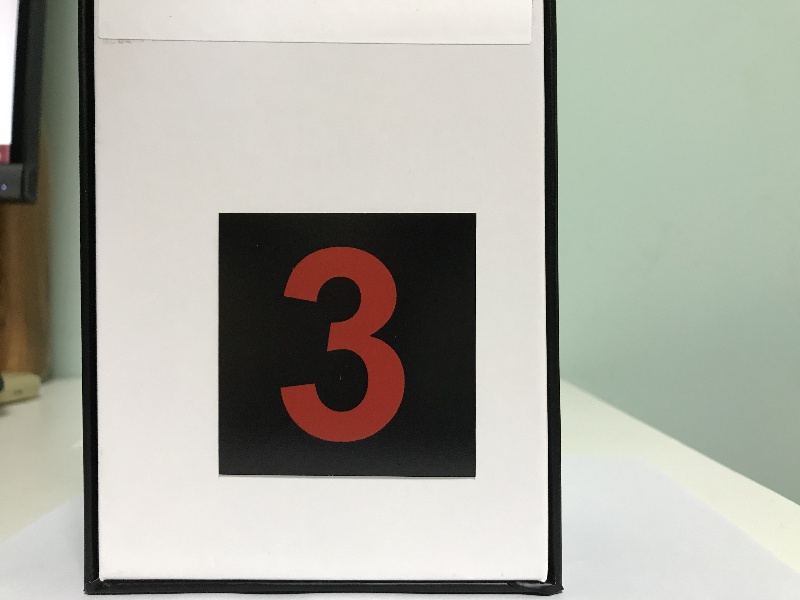Three-8: (220, 216, 474, 474)
